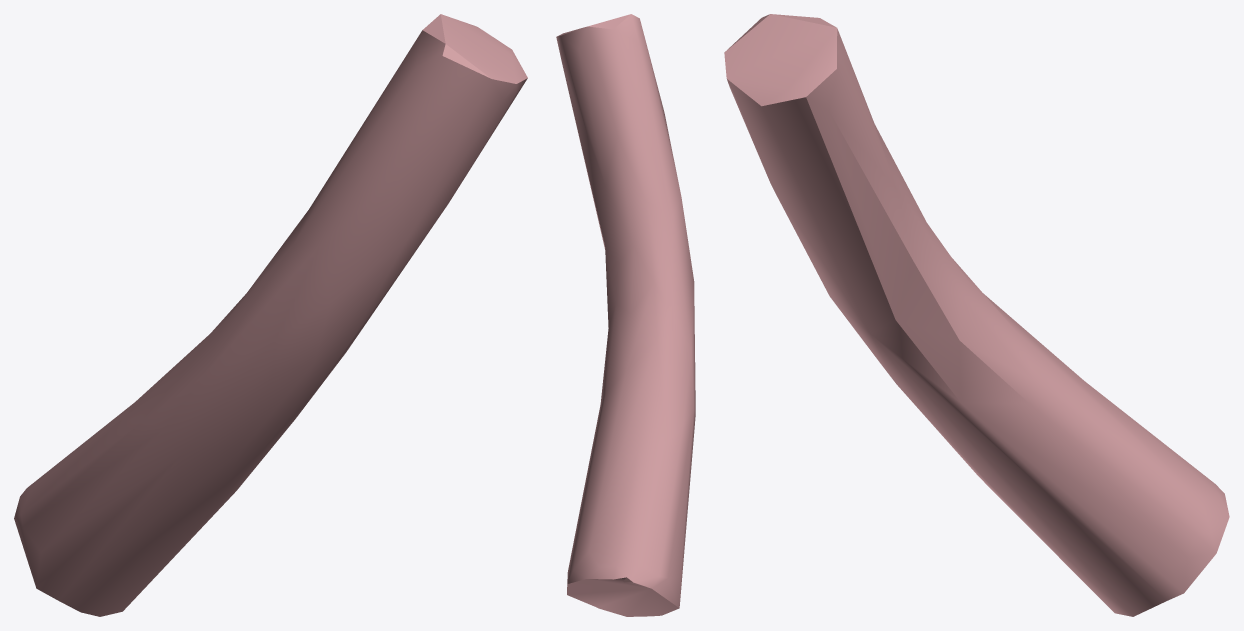
File: fma68211_fj2526.glb
The picture shows the model from 3 angles, left to right: view 1: azimuth 30°, elevation 25°; view 2: azimuth 150°, elevation 25°; view 3: azimuth 270°, elevation 25°; orthographic projection. The views are drawn at different scales.
Parts seen in each view (by area): view 1: FMA68211_FJ2526; view 2: FMA68211_FJ2526; view 3: FMA68211_FJ2526.
Part boxes in pixels (x1,y1,x2,y2): FMA68211_FJ2526: (14,14,527,616); FMA68211_FJ2526: (556,14,695,616); FMA68211_FJ2526: (724,14,1229,616).
Size of the model in its own units: 0.0047 by 0.00909 by 0.00612.
